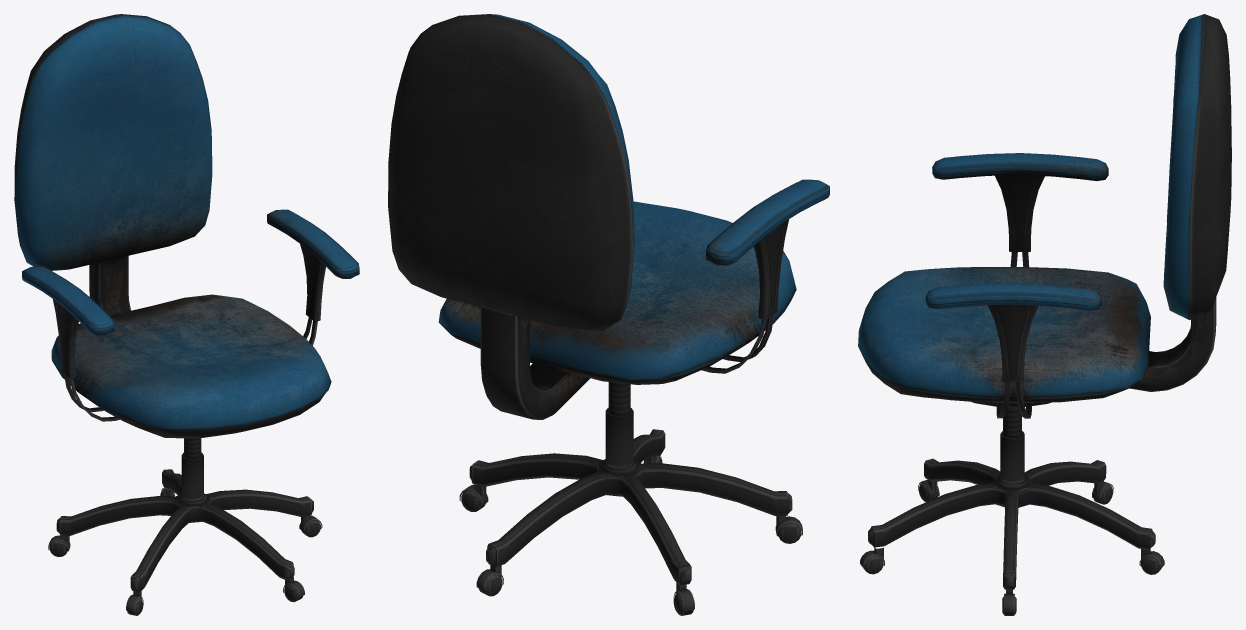
Rendered from chair.glb.
3 views of the same model, side by side, from view 1: azimuth 30°, elevation 25°; view 2: azimuth 150°, elevation 25°; view 3: azimuth 270°, elevation 25° (orthographic). The views are drawn at different scales.
Visible parts, largest first — view 1: OfficeChair_OfficeChair_0; view 2: OfficeChair_OfficeChair_0; view 3: OfficeChair_OfficeChair_0.
Boxes of the visible parts, x1,y1,x2,y2 form: OfficeChair_OfficeChair_0: (14, 14, 359, 615); OfficeChair_OfficeChair_0: (388, 14, 829, 615); OfficeChair_OfficeChair_0: (858, 14, 1231, 615).
Bounding box in the file's own units: 1.26 × 2.16 × 1.39.
Materials: 1 (1 with a texture image).
